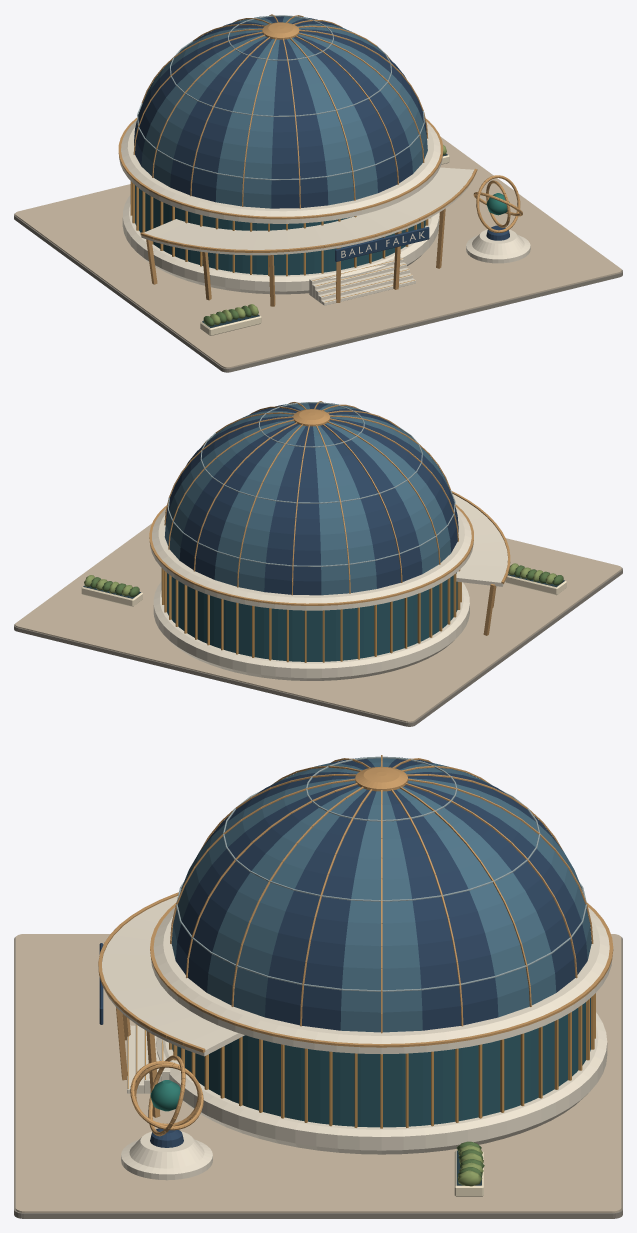
3 renders of one model, top to bottom at view 1: azimuth 30°, elevation 25°; view 2: azimuth 150°, elevation 25°; view 3: azimuth 270°, elevation 25°, orthographic. The views are drawn at different scales.
Visible parts, largest first — view 1: Armillary Court, Celestial Dome, Star Theatre; view 2: Celestial Dome, Armillary Court, Star Theatre; view 3: Celestial Dome, Armillary Court, Star Theatre.
Part boxes in pixels (x1,y1,x2,y2): Armillary Court: (14,137,622,372); Celestial Dome: (133,14,428,208); Star Theatre: (118,117,477,306); Celestial Dome: (164,401,458,595); Armillary Court: (14,523,622,726); Star Theatre: (149,491,510,680); Celestial Dome: (170,755,593,1033); Armillary Court: (14,934,622,1218); Star Theatre: (98,892,613,1154).
Bounding box in the file's own units: 26 × 12.82 × 24.
